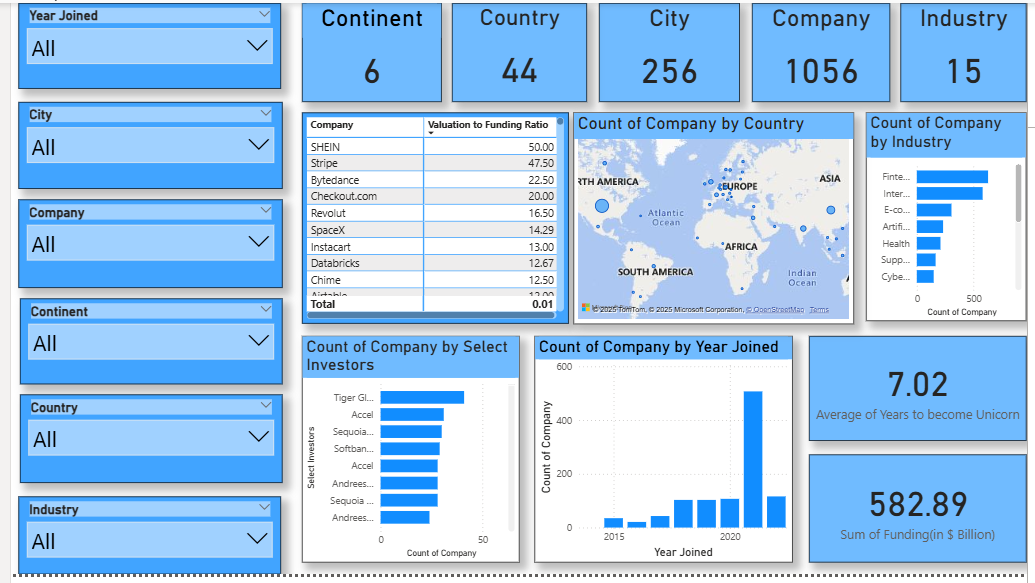

What the dashboard file says about the page in this screenshot:
{"tool":"powerbi","page":{"name":"Page 1","canvas":[1280,720],"ordinal":0},"visuals":[{"type":"slicer","fields":{"Values":["[phone redacted]-Unicorn_Companies.City"]},"box":[9.4,124.7,332.6,109.6],"z":0},{"type":"slicer","fields":{"Values":["[phone redacted]-Unicorn_Companies.Company"]},"box":[9.4,247.6,332.6,111.5],"z":1000},{"type":"slicer","fields":{"Values":["[phone redacted]-Unicorn_Companies.Continent"]},"box":[11.3,372.3,330.7,107.7],"z":2000},{"type":"slicer","fields":{"Values":["[phone redacted]-Unicorn_Companies.Country"]},"box":[11.3,493.2,330.7,111.5],"z":3000},{"type":"card","fields":{"Values":["Sum([phone redacted]-Unicorn_Companies.Years to become Unicorn)"]},"box":[1005.4,419.5,274,132.3],"z":4000},{"type":"card","title":"City","fields":{"Values":["Min([phone redacted]-Unicorn_Companies.City)"]},"box":[740.8,0,177.6,124.7],"z":5000},{"type":"card","title":"Company","fields":{"Values":["Min([phone redacted]-Unicorn_Companies.Company)"]},"box":[933.6,0,173.9,124.7],"z":6000},{"type":"card","title":"Continent","fields":{"Values":["Min([phone redacted]-Unicorn_Companies.Continent)"]},"box":[366.6,0,175.7,124.7],"z":7000},{"type":"card","title":"Country","fields":{"Values":["Min([phone redacted]-Unicorn_Companies.Country)"]},"box":[555.6,0,170.1,124.7],"z":8000},{"type":"slicer","fields":{"Values":["[phone redacted]-Unicorn_Companies.Industry"]},"box":[9.4,621.7,330.7,98.3],"z":9000},{"type":"card","title":"Industry","fields":{"Values":["Min([phone redacted]-Unicorn_Companies.Industry)"]},"box":[1120.6,0,158.7,124.7],"z":10000},{"type":"card","fields":{"Values":["Sum([phone redacted]-Unicorn_Companies.Funding(in $ Billion))"]},"box":[1005.4,568.8,274,136.1],"z":11000},{"type":"pivotTable","fields":{"Rows":["[phone redacted]-Unicorn_Companies.Company"],"Values":["[phone redacted]-Unicorn_Companies.Valuation to Funding Ratio"]},"box":[366,138,336,266],"z":12000},{"type":"slicer","fields":{"Values":["[phone redacted]-Unicorn_Companies.Year Joined"]},"box":[9.4,0,330.7,107.7],"z":13000},{"type":"columnChart","fields":{"Category":["[phone redacted]-Unicorn_Companies.Year Joined"],"Y":["CountNonNull([phone redacted]-Unicorn_Companies.Company)"]},"box":[659.5,419.5,325,285.4],"z":14000},{"type":"barChart","fields":{"Category":["Inventors_Data.Select Investors"],"Y":["CountNonNull(Inventors_Data.Company)"]},"box":[366.6,419.5,274,285.4],"z":15000},{"type":"barChart","fields":{"Category":["Inventors_Data.Industry"],"Y":["CountNonNull(Inventors_Data.Company)"]},"box":[1077.2,138,202.2,262.7],"z":16000},{"type":"map","fields":{"Category":["Inventors_Data.Country"],"Size":["CountNonNull(Inventors_Data.Company)"]},"box":[708.7,138,353.4,266.5],"z":17000}]}

Visuals, with their boxes in screenshot pixels (x1, y1, x2, y2), scaled from the page's 1280x720 canvas onto the 1035x583 screenshot:
slicer - [phone redacted]-Unicorn_Companies.City: BBox(8, 101, 277, 190)
slicer - [phone redacted]-Unicorn_Companies.Company: BBox(8, 200, 277, 291)
slicer - [phone redacted]-Unicorn_Companies.Continent: BBox(9, 301, 277, 389)
slicer - [phone redacted]-Unicorn_Companies.Country: BBox(9, 399, 277, 490)
card - Sum([phone redacted]-Unicorn_Companies.Years to become Unicorn): BBox(813, 340, 1034, 447)
"City" card: BBox(599, 0, 743, 101)
"Company" card: BBox(755, 0, 896, 101)
"Continent" card: BBox(296, 0, 439, 101)
"Country" card: BBox(449, 0, 587, 101)
slicer - [phone redacted]-Unicorn_Companies.Industry: BBox(8, 503, 275, 582)
"Industry" card: BBox(906, 0, 1034, 101)
card - Sum([phone redacted]-Unicorn_Companies.Funding(in $ Billion)): BBox(813, 461, 1034, 571)
pivotTable - [phone redacted]-Unicorn_Companies.Company x [phone redacted]-Unicorn_Companies.Valuation to Funding Ratio: BBox(296, 112, 568, 327)
slicer - [phone redacted]-Unicorn_Companies.Year Joined: BBox(8, 0, 275, 87)
columnChart - [phone redacted]-Unicorn_Companies.Year Joined x CountNonNull([phone redacted]-Unicorn_Companies.Company): BBox(533, 340, 796, 571)
barChart - Inventors_Data.Select Investors x CountNonNull(Inventors_Data.Company): BBox(296, 340, 518, 571)
barChart - Inventors_Data.Industry x CountNonNull(Inventors_Data.Company): BBox(871, 112, 1034, 324)
map - Inventors_Data.Country x CountNonNull(Inventors_Data.Company): BBox(573, 112, 859, 328)
